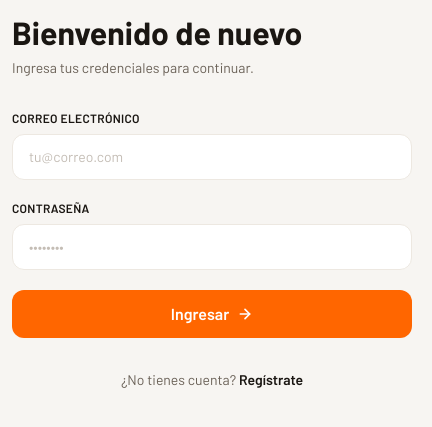
Test case: LoginPage › shows validation error for invalid email
The width and height of the screenshot is (432, 427).
Type "not-valid" into the field labelled "Correo electrónico". click: (212, 157)
box: x1=12 y1=134 x2=412 y2=180
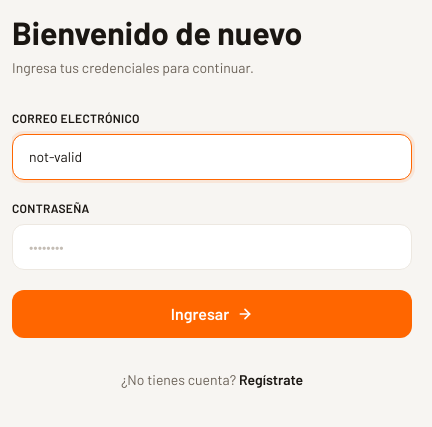
Type "password123" into the password field labelled "Contraseña". click: (212, 247)
box: x1=12 y1=224 x2=412 y2=270
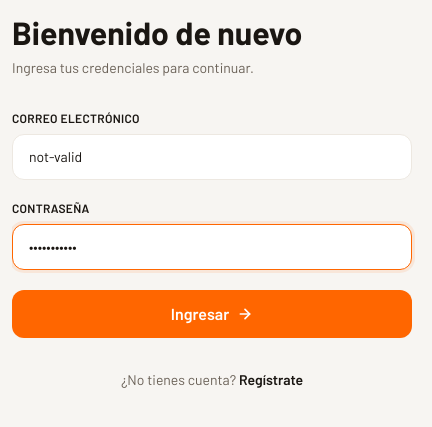
Click the button "Ingresar". click: (212, 314)
box: x1=12 y1=290 x2=412 y2=338
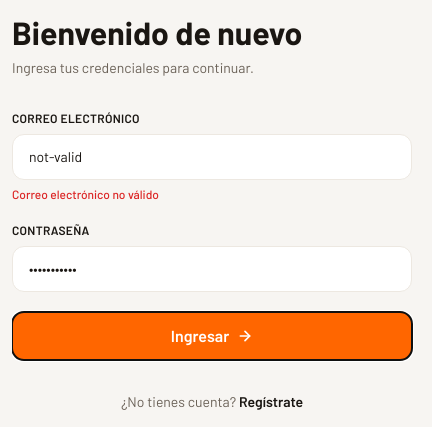
Expected: the text "Correo electrónico no válido" is shown, x1=12 y1=187 x2=159 y2=201
